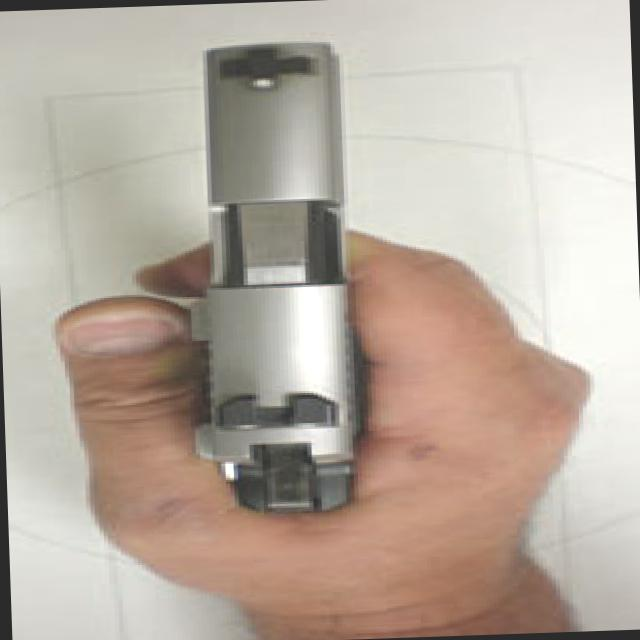handgun: (176, 36, 374, 516)
